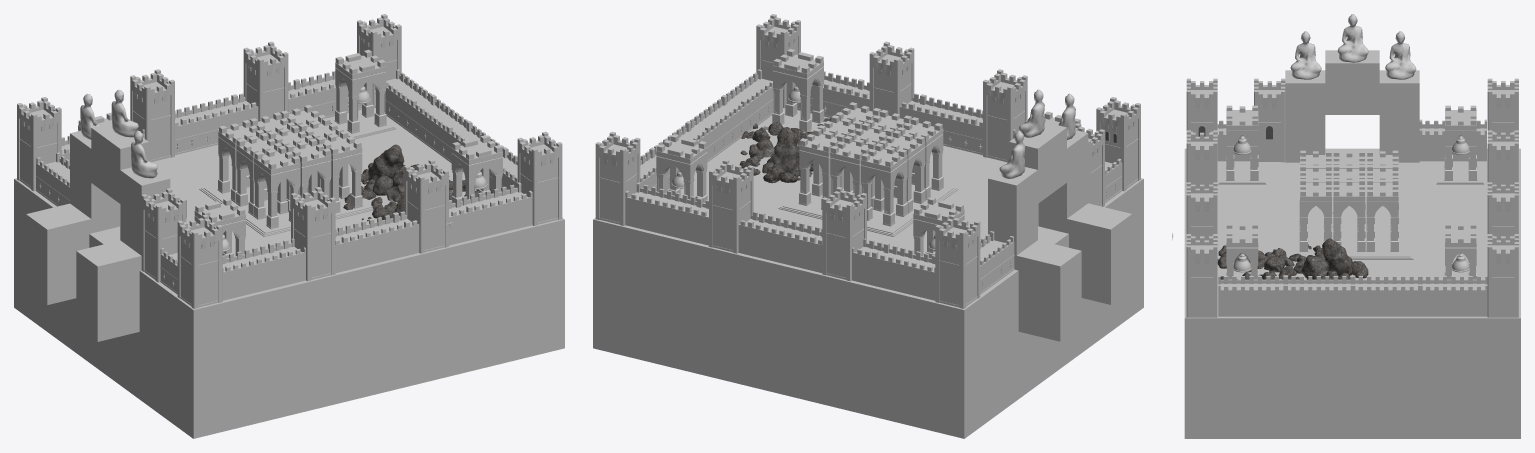
The model's file is A TempleAssets Temp.fbx.
The picture shows the model from 3 angles, left to right: view 1: azimuth 30°, elevation 25°; view 2: azimuth 150°, elevation 25°; view 3: azimuth 270°, elevation 25°; orthographic projection. The views are drawn at different scales.
Parts seen in each view (by area): view 1: Ground, Wall_Tower.001, Gate, Wall, Tower, Wall.001, Bell_Tower, Wall_Tower.002, RockSet, Bell_Tower.001, Bell_Tower.003, Wall.003 (+5 smaller); view 2: Ground, Wall_Tower.001, Gate, Wall, Tower, Wall.001, Bell_Tower.001, RockSet, Bell_Tower, Bell_Tower.002, Wall.003, Wall_Tower.002 (+3 smaller); view 3: Ground, Wall_Tower.001, Wall.001, Gate, Tower, RockSet, Wall_Tower.002, Bell_Tower.003, Bell_Tower.002, Wall.003, Bell_Tower.001, Bell_Tower (+6 smaller).
Part boxes in pixels (left/top/right/bottom): Ground: left=14, top=108, right=564, bottom=438; Wall_Tower.001: left=17, top=14, right=562, bottom=308; Gate: left=26, top=122, right=170, bottom=341; Wall: left=61, top=71, right=532, bottom=300; Tower: left=217, top=105, right=362, bottom=228; Wall.001: left=375, top=69, right=517, bottom=189; Bell_Tower: left=334, top=49, right=386, bottom=133; Wall_Tower.002: left=141, top=188, right=186, bottom=282; RockSet: left=343, top=144, right=492, bottom=221; Bell_Tower.001: left=451, top=135, right=502, bottom=203; Bell_Tower.003: left=194, top=198, right=245, bottom=258; Wall.003: left=36, top=152, right=69, bottom=206; Ground: left=593, top=108, right=1143, bottom=438; Wall_Tower.001: left=595, top=14, right=1140, bottom=308; Gate: left=988, top=122, right=1131, bottom=341; Wall: left=625, top=71, right=1027, bottom=300; Tower: left=798, top=102, right=943, bottom=226; Wall.001: left=640, top=69, right=773, bottom=191; Bell_Tower.001: left=772, top=49, right=824, bottom=132; RockSet: left=739, top=118, right=831, bottom=183; Bell_Tower: left=656, top=134, right=707, bottom=203; Bell_Tower.002: left=913, top=197, right=964, bottom=258; Wall.003: left=980, top=231, right=1014, bottom=294; Wall_Tower.002: left=1075, top=123, right=1104, bottom=206; Ground: left=1184, top=148, right=1520, bottom=438; Wall_Tower.001: left=1186, top=78, right=1518, bottom=317; Wall.001: left=1218, top=275, right=1487, bottom=316; Gate: left=1285, top=50, right=1419, bottom=162; Tower: left=1299, top=150, right=1398, bottom=251; RockSet: left=1217, top=238, right=1368, bottom=279; Wall_Tower.002: left=1254, top=78, right=1285, bottom=162; Bell_Tower.003: left=1226, top=105, right=1258, bottom=180; Bell_Tower.002: left=1444, top=105, right=1477, bottom=180; Wall.003: left=1419, top=119, right=1486, bottom=161; Bell_Tower.001: left=1226, top=223, right=1258, bottom=279; Bell_Tower: left=1444, top=223, right=1476, bottom=279.
Size of the model in its own units: 10665 by 6899 by 8318.
